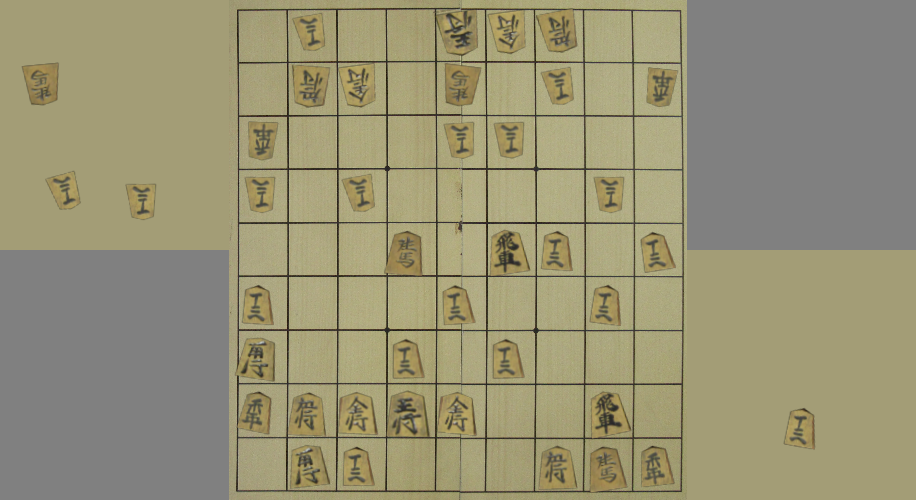A: (490, 229, 530, 275), (389, 392, 427, 436), (592, 392, 629, 437), (237, 339, 275, 381), (291, 446, 329, 488), (591, 447, 626, 491), (386, 232, 421, 275), (340, 393, 376, 434), (540, 447, 576, 488), (440, 393, 475, 435), (640, 233, 676, 273), (291, 394, 324, 435), (239, 393, 271, 434), (442, 286, 475, 325), (393, 340, 423, 379), (493, 340, 523, 379), (642, 447, 672, 486), (243, 286, 273, 324), (542, 232, 572, 270), (591, 286, 620, 325), (344, 448, 373, 486)
B: (437, 11, 477, 55), (538, 10, 576, 51), (489, 12, 525, 53), (445, 64, 480, 106), (295, 66, 329, 107), (341, 64, 374, 106), (541, 67, 573, 105), (343, 175, 374, 212), (294, 14, 324, 50), (648, 69, 677, 106), (250, 122, 278, 160), (595, 177, 623, 213), (495, 122, 523, 157), (445, 123, 473, 158), (247, 178, 274, 212)
C: (785, 410, 814, 449)
D: (22, 63, 57, 105), (47, 172, 80, 209), (127, 184, 155, 219)
